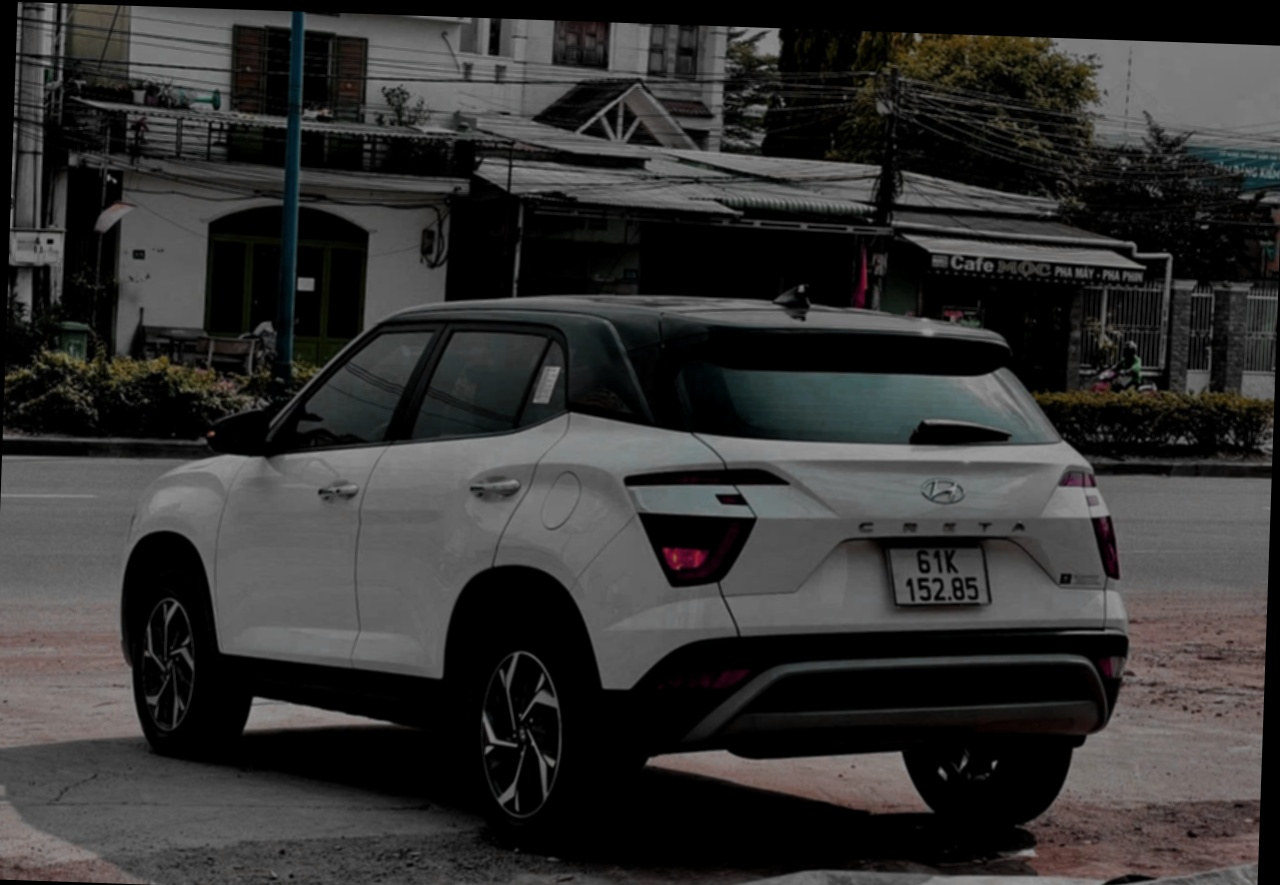Bien-so: (899, 485, 1014, 565)
